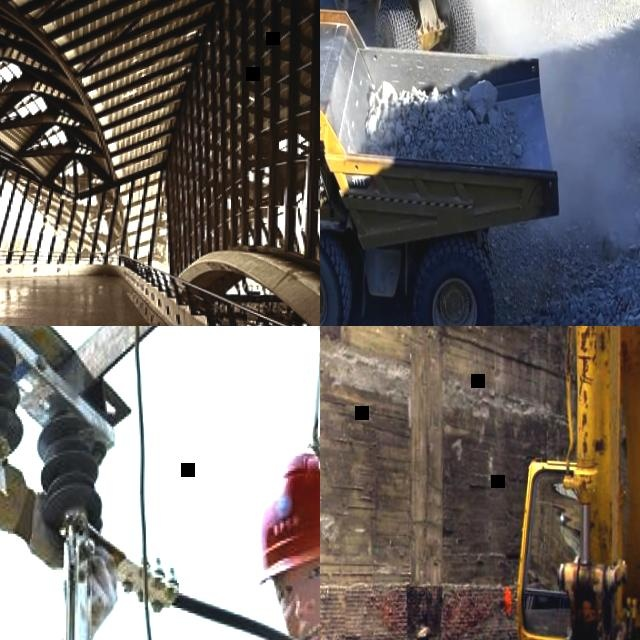Hardhat: (257, 446, 320, 584)
NO-Mask: (295, 605, 320, 640)
Person: (0, 407, 125, 640)
machinery: (320, 0, 565, 326), (465, 326, 640, 640), (320, 0, 538, 51)
